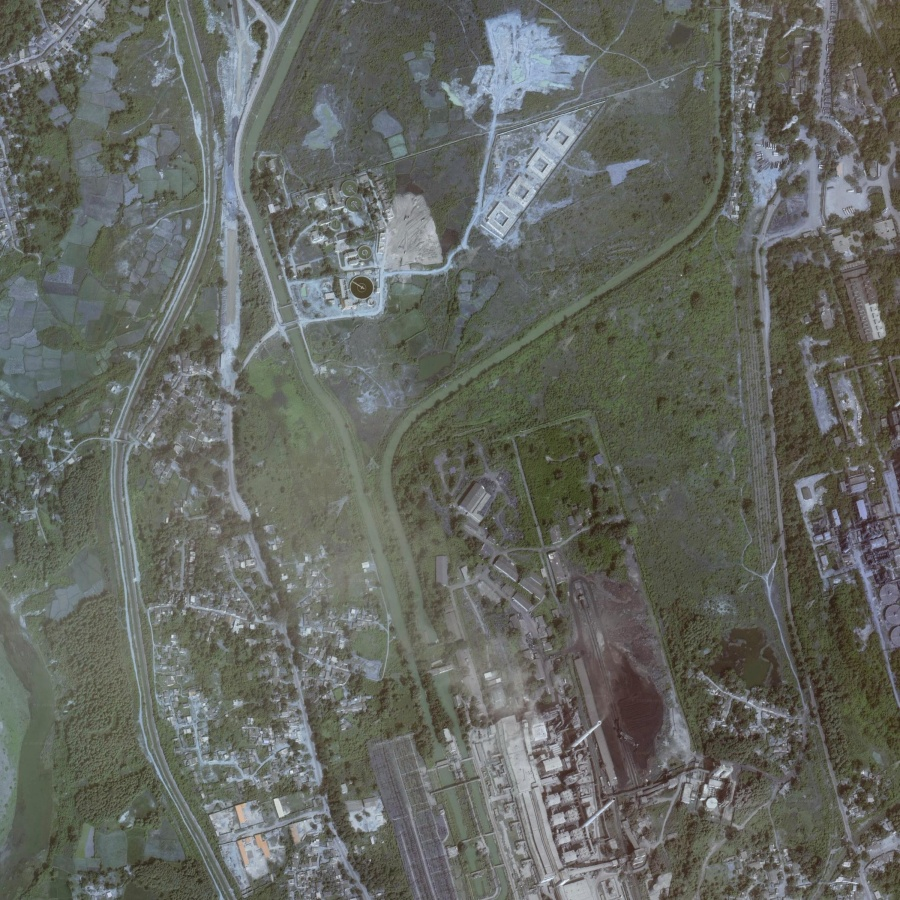PowerPlant: (477, 565, 674, 862)
